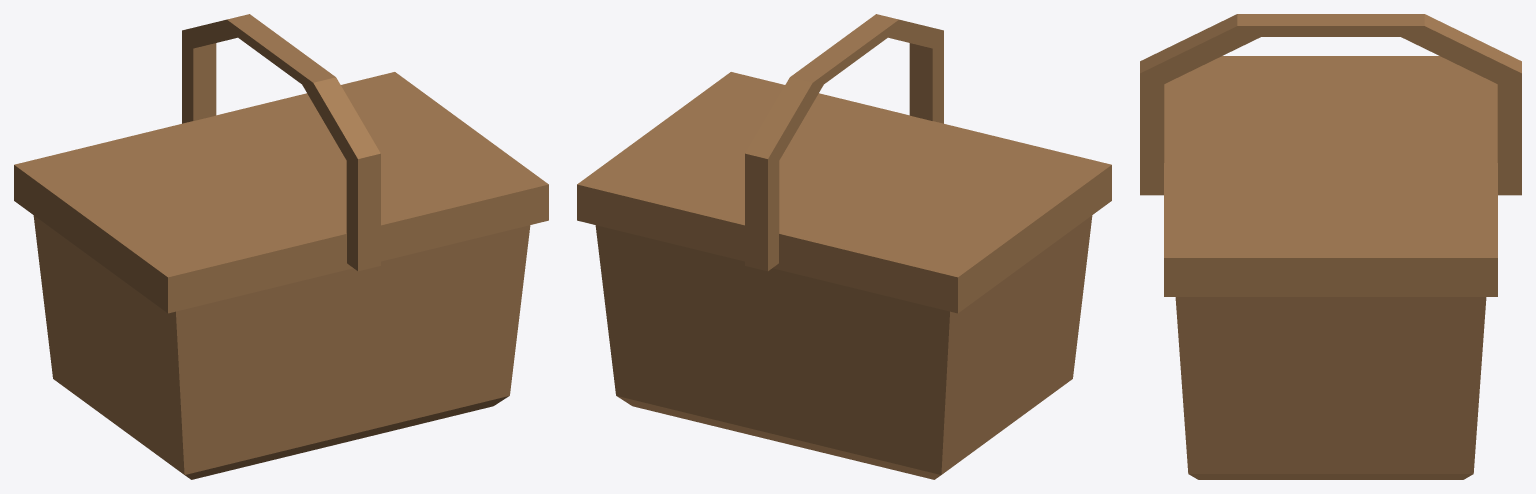
The model's file is Basket.fbx.
3 renders of one model, left to right at view 1: azimuth 30°, elevation 25°; view 2: azimuth 150°, elevation 25°; view 3: azimuth 270°, elevation 25°, orthographic. The views are drawn at different scales.
Visible parts, largest first — view 1: Basket; view 2: Basket; view 3: Basket.
Boxes of the visible parts, box(x1,y1,x2,y2) form: Basket: box(14, 14, 548, 479); Basket: box(577, 14, 1111, 479); Basket: box(1140, 14, 1521, 479).
Bounding box in the file's own units: 27.32 × 23.99 × 21.85.
